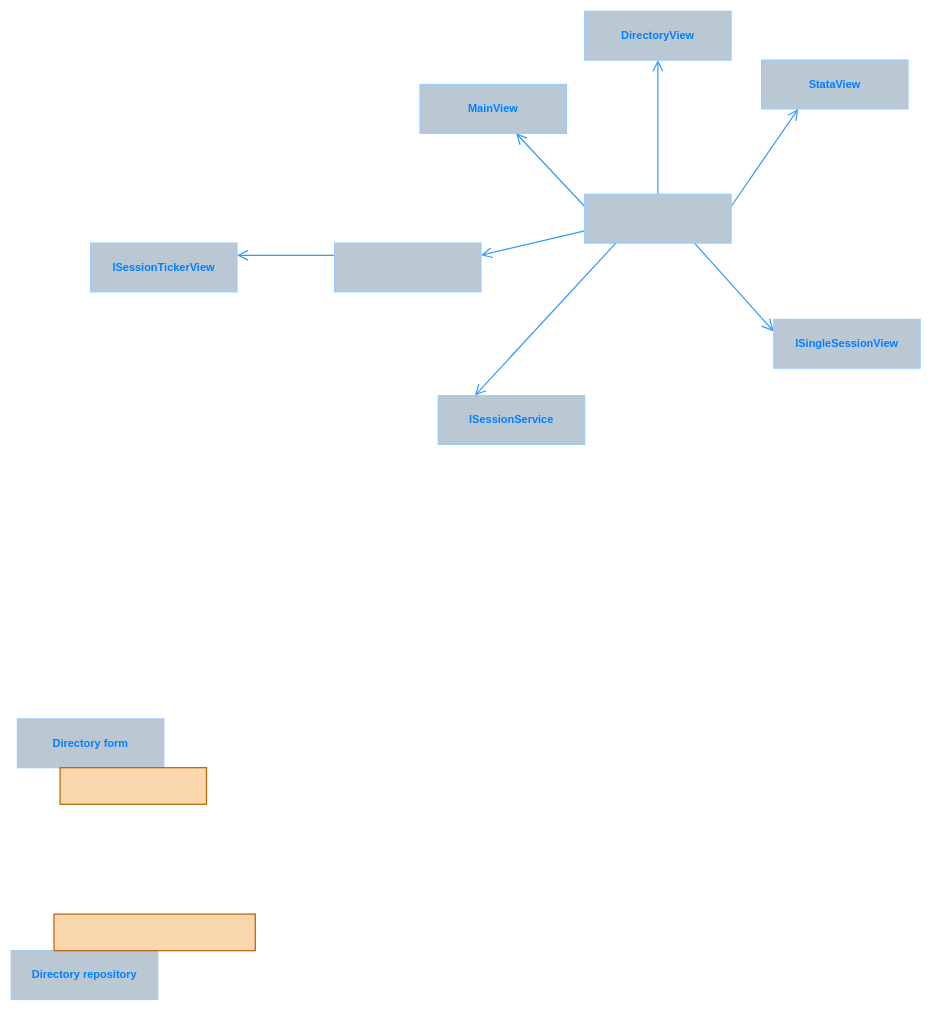
This 931x1010 diagram has some shape labels left out. Each missing label, with the centre of its shape:
display items: point 133,786
get items of an owner(owner): point 154,932
MainPresenter: point 657,218
SingleSessionTicker: point 407,267
